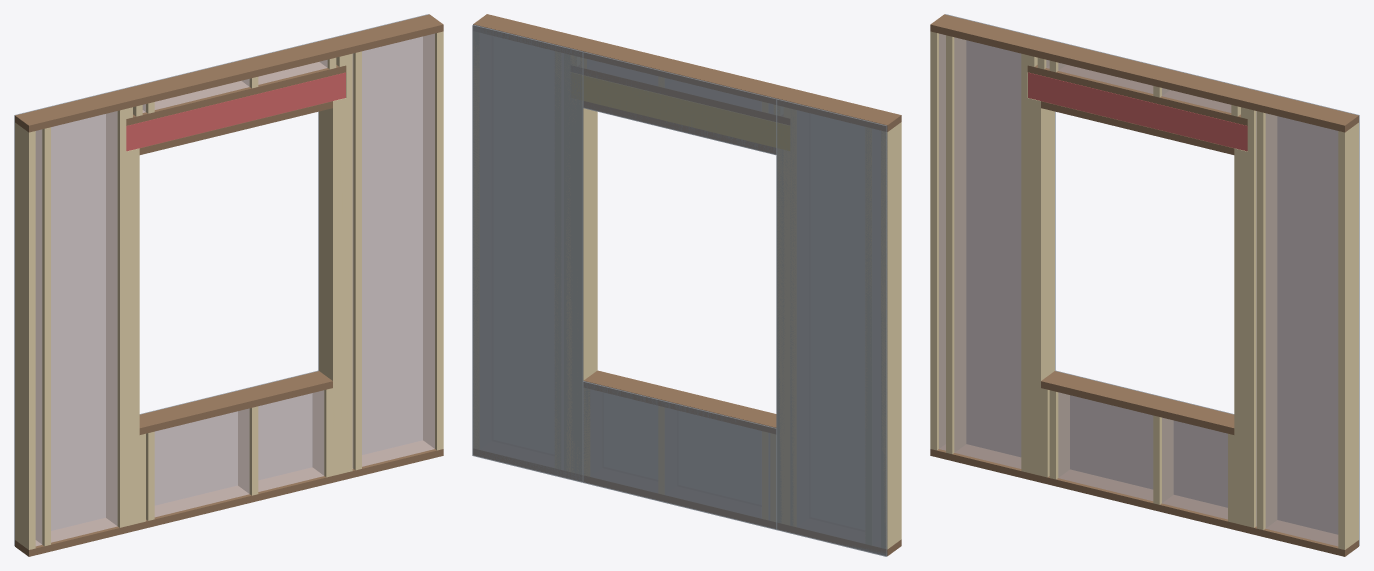
3 renders of one model, left to right at view 1: azimuth 30°, elevation 25°; view 2: azimuth 150°, elevation 25°; view 3: azimuth 330°, elevation 25°, orthographic.
Visible parts, largest first — view 1: EX22 GF; view 2: EX22 GF; view 3: EX22 GF.
Part boxes in pixels (x1,y1,x2,y2): EX22 GF: (14, 14, 443, 556); EX22 GF: (472, 14, 901, 556); EX22 GF: (930, 14, 1359, 556).
Bounding box in the file's own units: 2.4 × 2.39 × 0.149.
